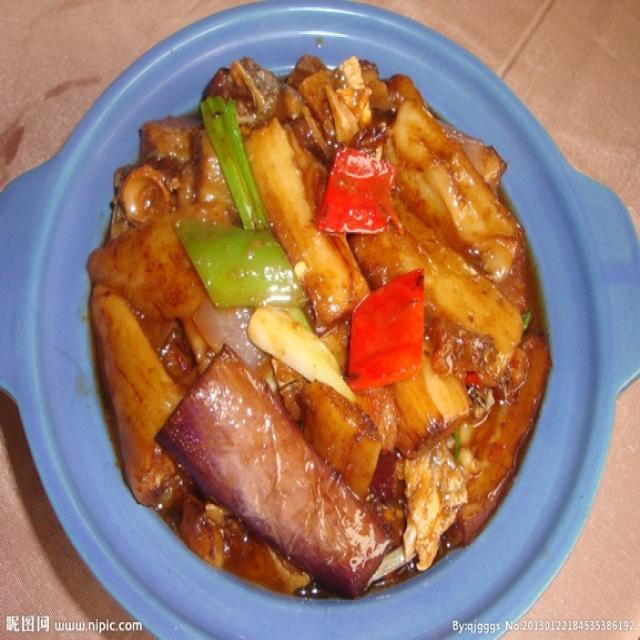鸡蛋料理: (73, 18, 571, 607)
